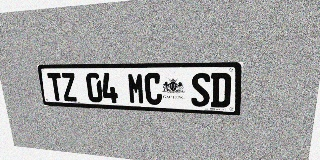0: (85, 73, 103, 103)
4: (100, 73, 118, 103)
C: (144, 73, 162, 105)
D: (210, 73, 231, 108)
M: (127, 73, 145, 104)
S: (191, 73, 210, 107)
T: (47, 73, 64, 101)
Z: (61, 73, 78, 102)
